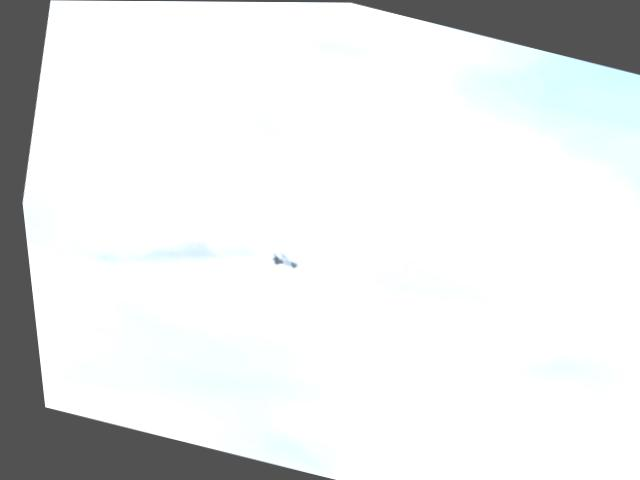uav: (262, 251, 295, 271)
